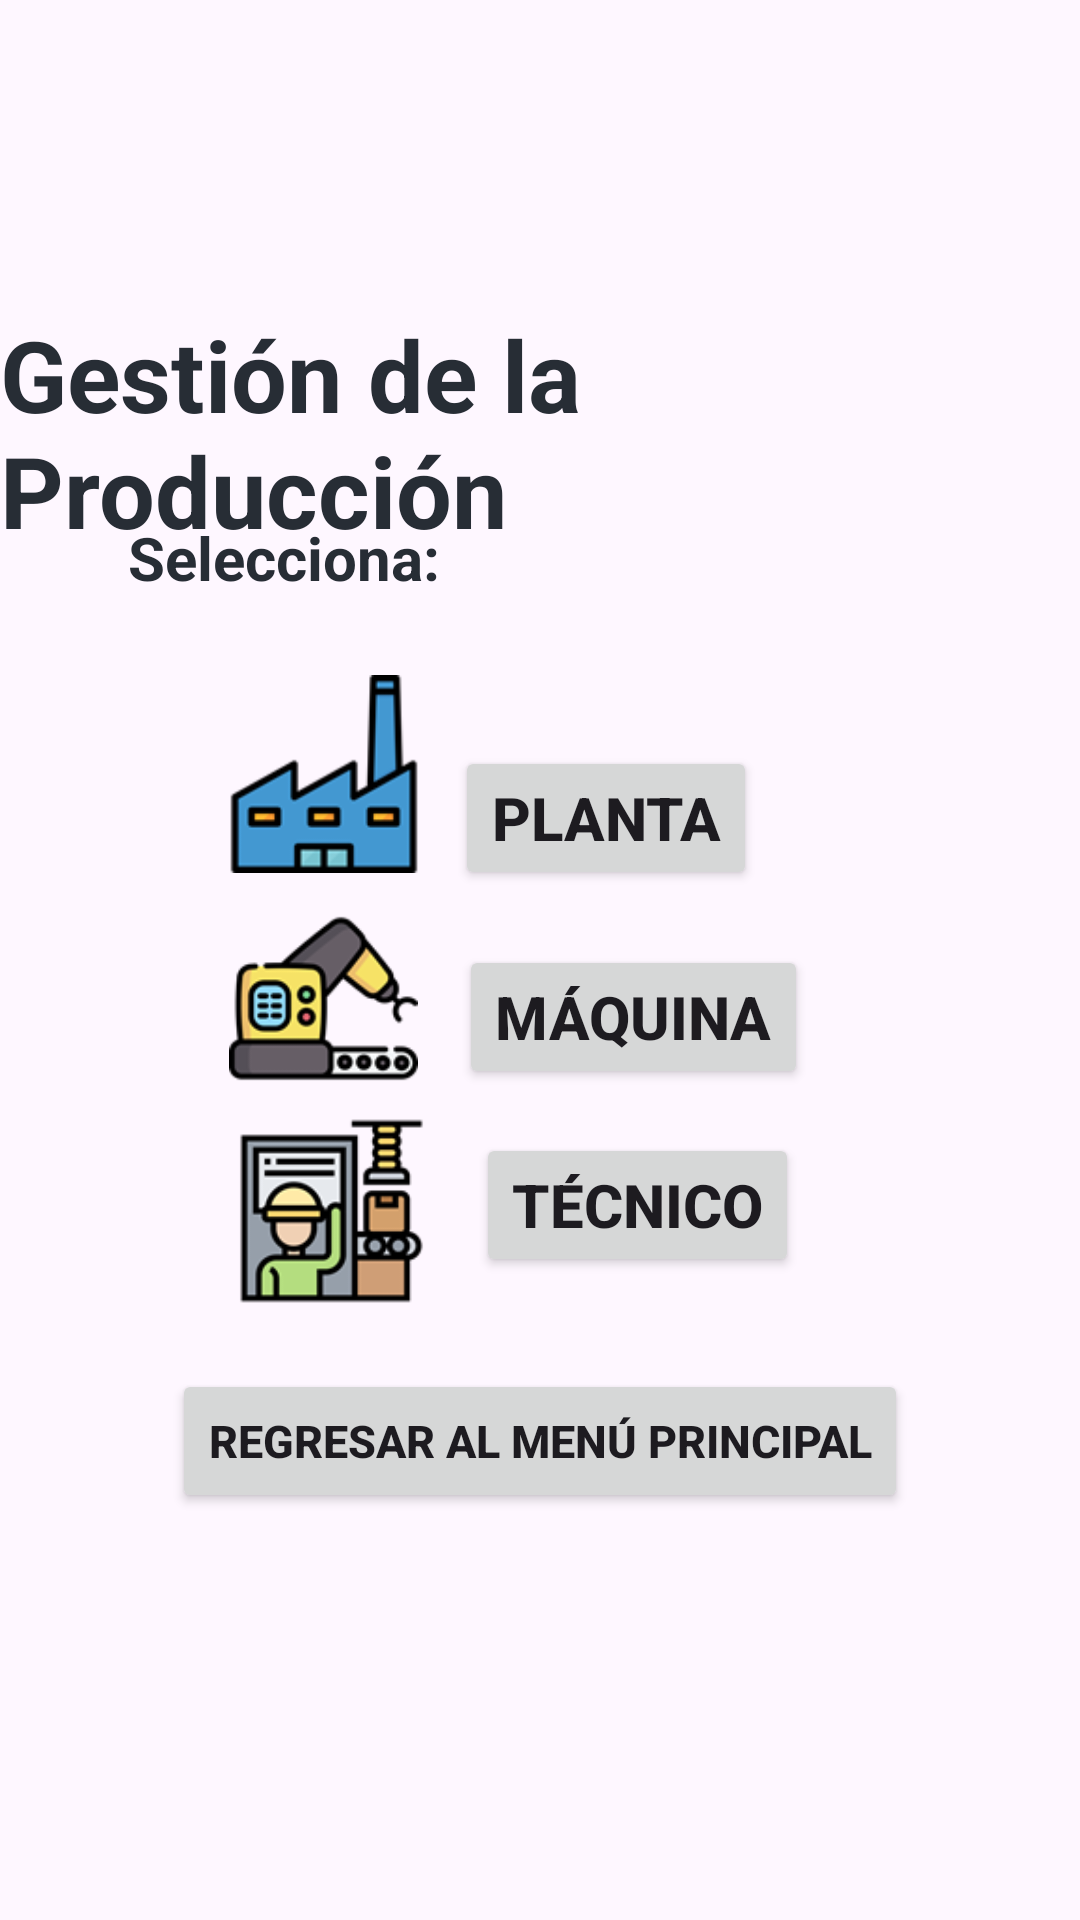

Named icons in this screenshot (1080 x 1920) and their bounding boxes, (x1, y1, x2, y2):
maquinaiconoapp: (229, 917, 418, 1080)
tecnicoiconoapp: (240, 1119, 423, 1303)
